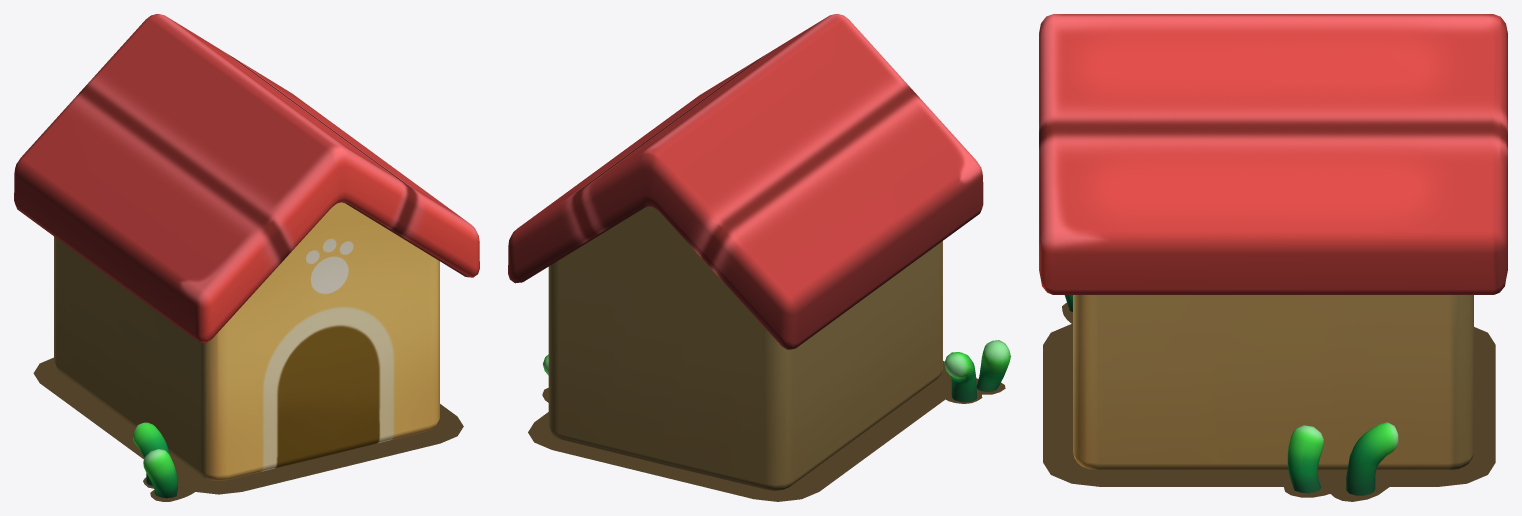
The model's file is DogHouse.fbx.
3 views of the same model, side by side, from view 1: azimuth 30°, elevation 25°; view 2: azimuth 150°, elevation 25°; view 3: azimuth 270°, elevation 25° (orthographic). The views are drawn at different scales.
Visible parts, largest first — view 1: DogHouse_body, DH_SDW, DH_Grass02; view 2: DogHouse_body, DH_SDW, DH_Grass02; view 3: DogHouse_body, DH_SDW, DH_Grass01.
Part boxes in pixels (<box>): DogHouse_body: <box>14,14,479,480</box>; DH_SDW: <box>33,357,463,501</box>; DH_Grass02: <box>133,422,177,498</box>; DogHouse_body: <box>508,14,983,490</box>; DH_SDW: <box>528,361,1005,501</box>; DH_Grass02: <box>944,340,1010,402</box>; DogHouse_body: <box>1039,14,1507,470</box>; DH_SDW: <box>1043,303,1495,501</box>; DH_Grass01: <box>1287,422,1398,495</box>.
Size of the model in its own units: 146 by 128 by 140.
Materials: 3 (1 with a texture image).
